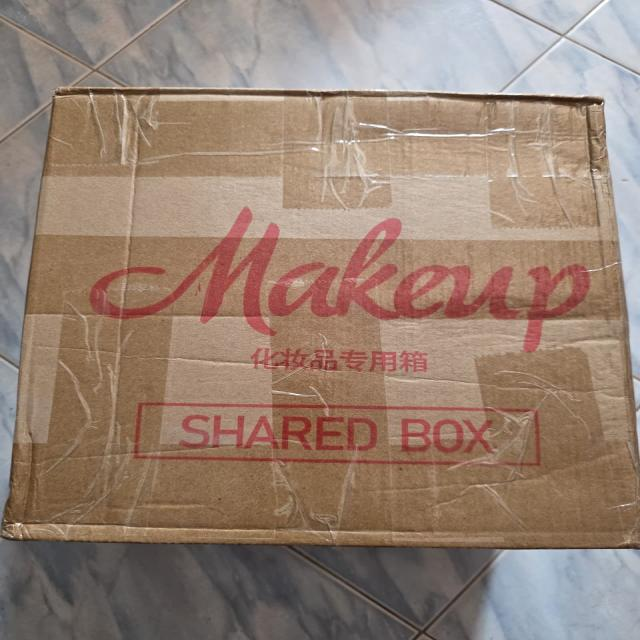carton_box: (0, 80, 640, 561)
